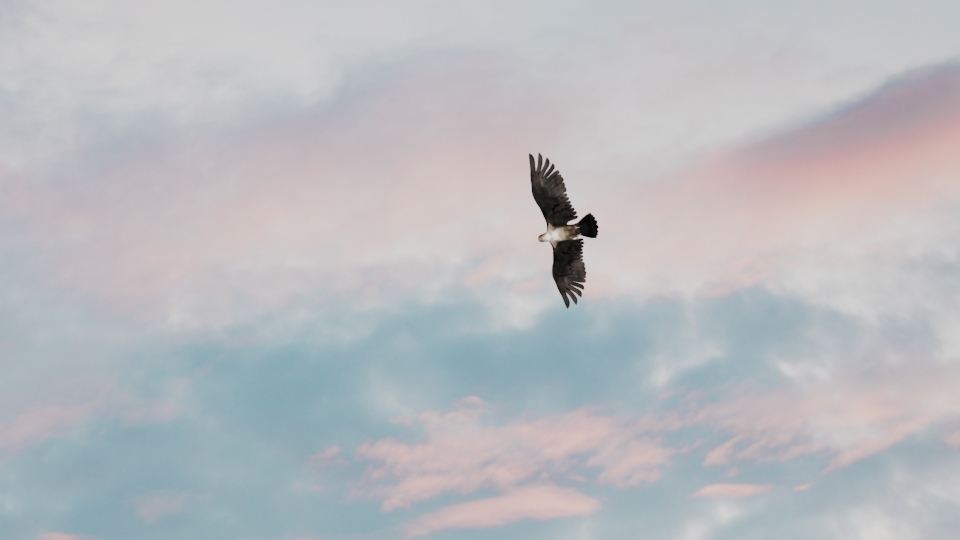bird: (528, 152, 600, 311)
